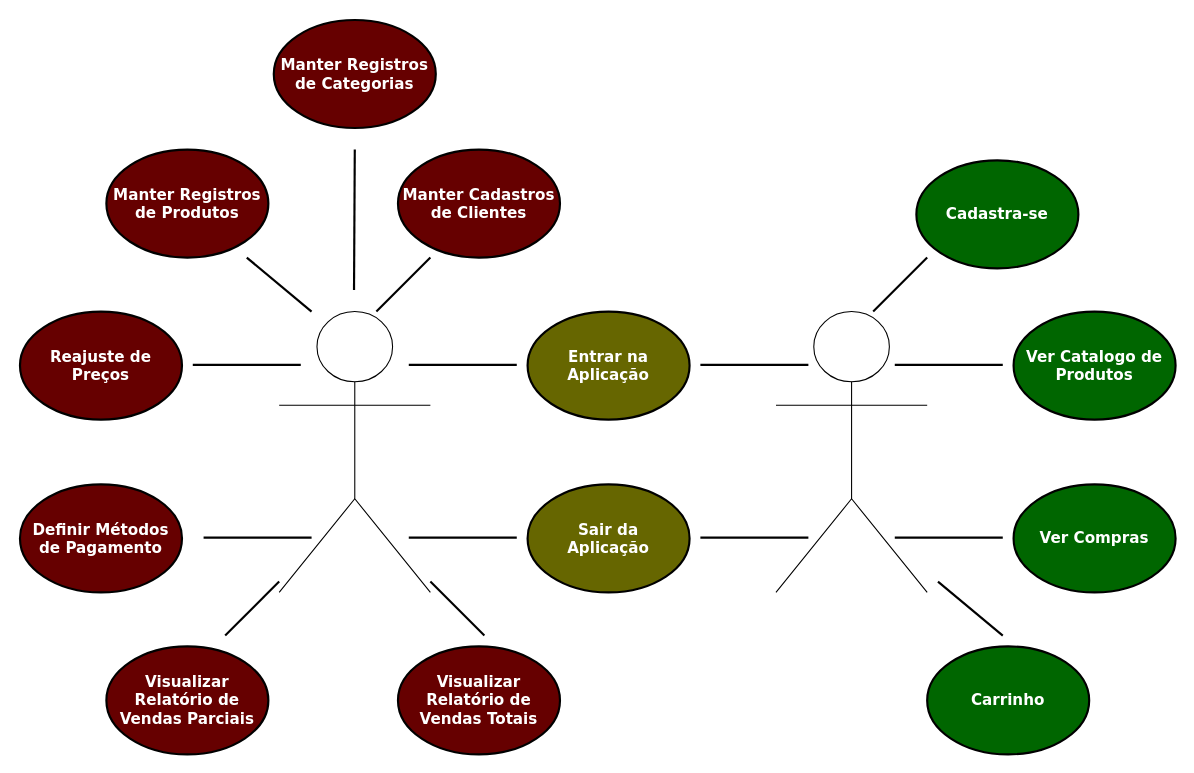
The diagram is 1194 pixels wide and 773 high, and some of its shapes have lost their labels. Here are the shapes that lost their labels. From the top down, the box of each, then its label:
(278, 310, 430, 592): Administrador
(775, 310, 927, 592): Cliente
